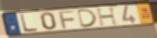0: (40, 11, 59, 31)
4: (121, 5, 137, 24)
D: (76, 8, 99, 29)
F: (58, 9, 77, 30)
H: (95, 6, 120, 27)
L: (19, 13, 40, 34)
